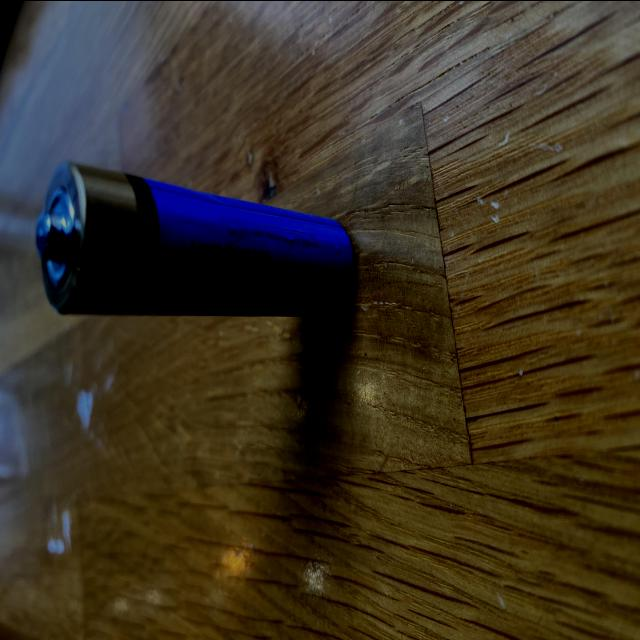AA: (34, 153, 360, 320)
